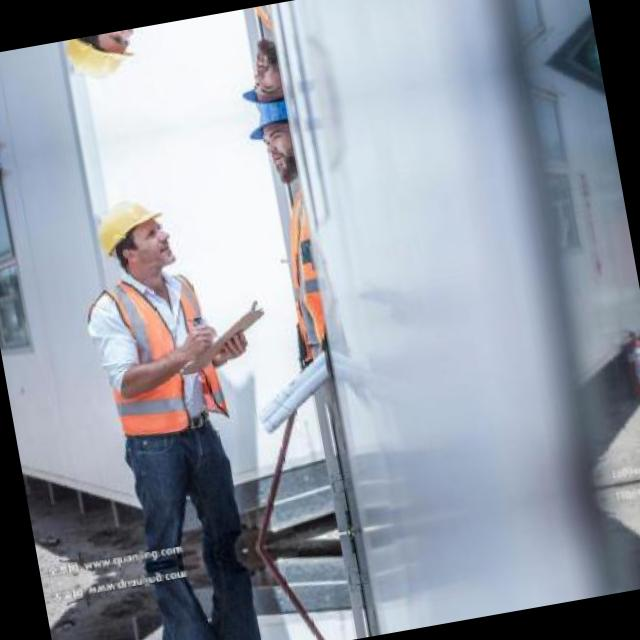helmet: (88, 190, 180, 281), (58, 28, 147, 88), (240, 110, 302, 187), (228, 40, 290, 116)
